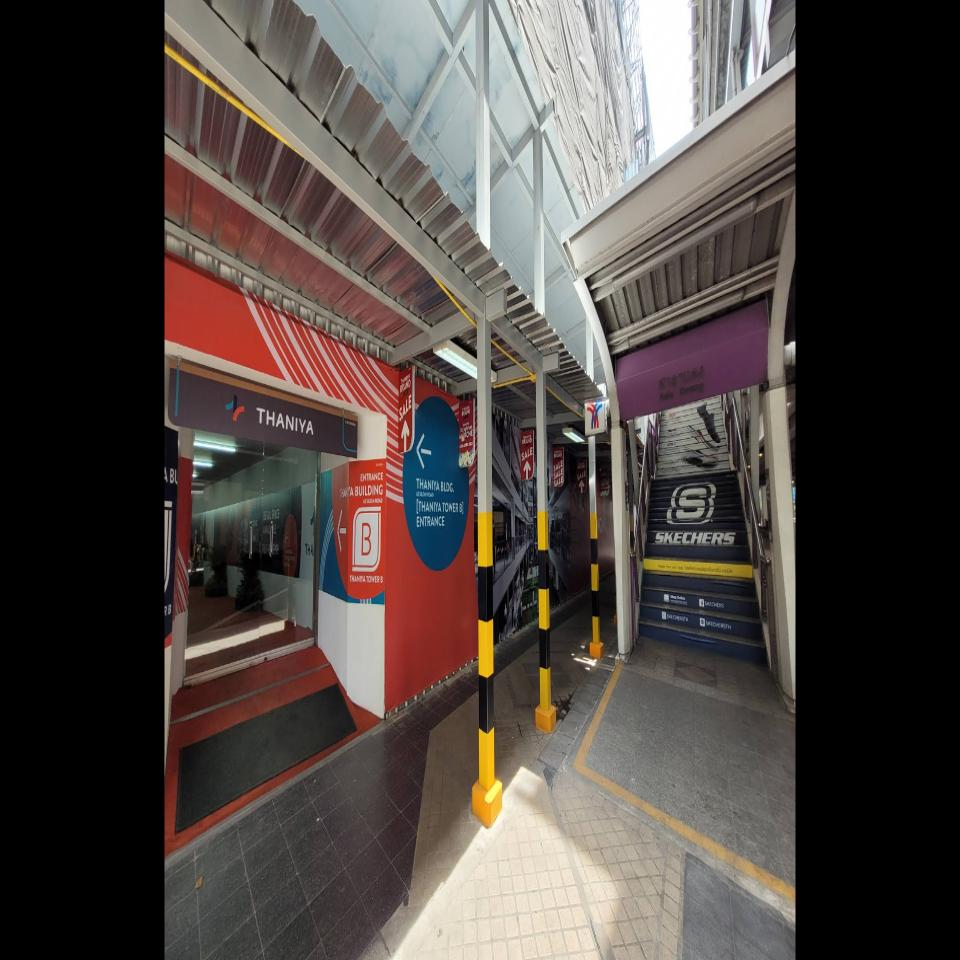signage: (585, 326, 770, 439), (616, 326, 770, 422)
